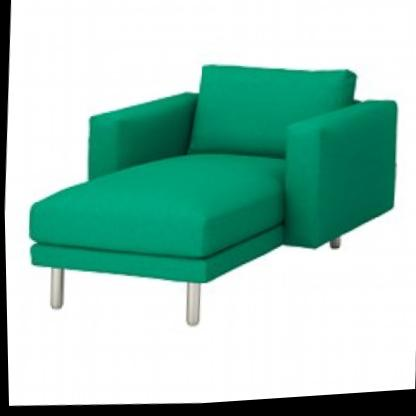Sofa: (12, 12, 408, 352)
